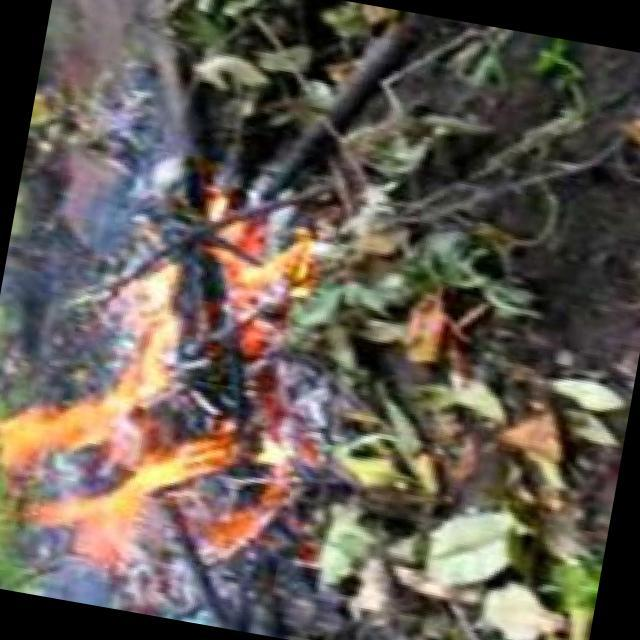Fire: (1, 173, 328, 584)
